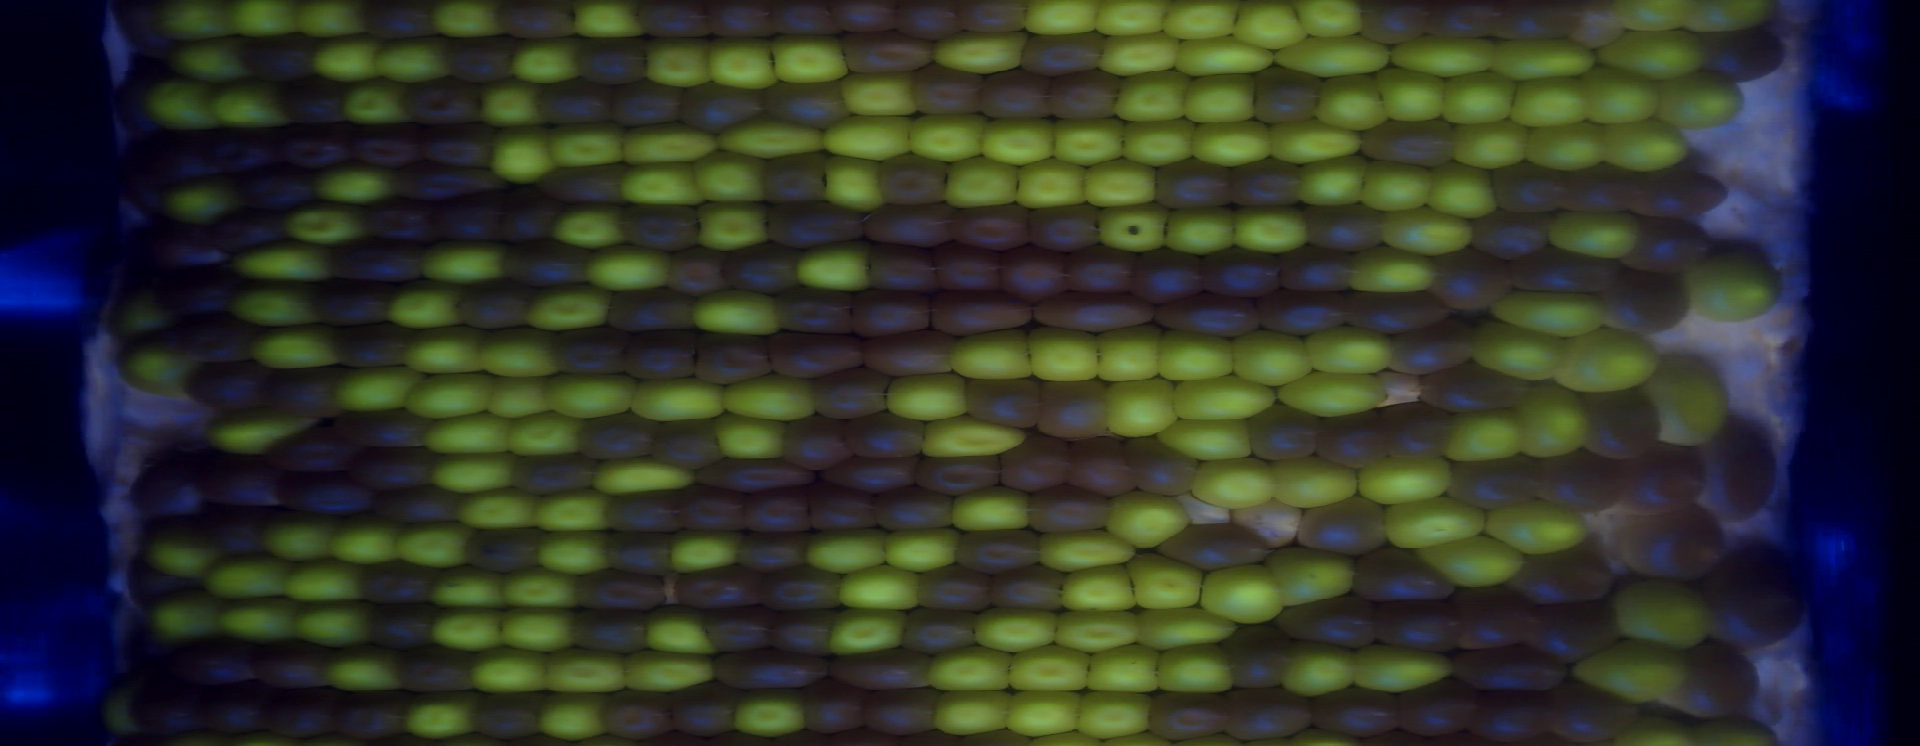fluorescent: (1635, 349, 1734, 452), (1573, 633, 1697, 708), (1549, 323, 1665, 398), (1609, 572, 1719, 650), (1685, 241, 1784, 322), (1464, 314, 1571, 385), (1485, 287, 1615, 344), (111, 327, 208, 404), (1379, 492, 1491, 559), (1589, 24, 1713, 85), (1100, 485, 1201, 557), (1644, 65, 1751, 134), (1478, 495, 1592, 559), (1411, 530, 1531, 590), (1509, 380, 1596, 462), (1258, 540, 1360, 609), (201, 401, 320, 459), (1346, 639, 1461, 699), (1269, 29, 1400, 82), (1273, 364, 1396, 420), (1166, 369, 1283, 426), (132, 516, 233, 583), (711, 114, 838, 167), (1356, 446, 1460, 510), (684, 281, 787, 344), (1593, 111, 1697, 174), (1576, 59, 1669, 129), (1195, 559, 1288, 628), (715, 369, 828, 426), (195, 548, 300, 609), (1120, 544, 1211, 615), (1134, 600, 1245, 658), (219, 232, 338, 285), (1298, 318, 1404, 379), (1018, 320, 1111, 388), (1540, 205, 1644, 266), (917, 412, 1035, 465), (1185, 450, 1284, 513), (1266, 450, 1367, 512), (587, 450, 705, 502), (246, 318, 350, 379), (1224, 327, 1322, 391), (1147, 318, 1242, 385), (942, 323, 1043, 385), (1098, 372, 1185, 443), (156, 170, 252, 234), (251, 505, 345, 570), (578, 236, 680, 296), (468, 322, 567, 383), (613, 116, 726, 170), (1035, 524, 1142, 581), (410, 232, 516, 289), (1389, 31, 1506, 82), (542, 367, 647, 425), (396, 367, 500, 425), (1487, 33, 1603, 85), (380, 274, 475, 337), (969, 599, 1065, 660), (1436, 404, 1533, 465), (800, 521, 900, 579), (880, 367, 978, 428), (624, 372, 733, 426), (138, 71, 227, 137), (926, 26, 1036, 78), (520, 279, 623, 336), (760, 29, 862, 86), (1375, 202, 1477, 258), (1420, 156, 1504, 224), (276, 551, 375, 609), (918, 639, 1015, 698), (541, 641, 638, 699), (1155, 415, 1262, 468), (689, 192, 775, 258), (222, 279, 332, 331), (792, 230, 879, 295), (1276, 635, 1363, 699), (1089, 318, 1172, 386), (687, 145, 773, 209), (322, 510, 408, 575), (816, 111, 921, 164), (157, 36, 260, 89), (1052, 559, 1146, 617), (834, 556, 928, 615), (1370, 59, 1451, 127), (396, 318, 487, 379), (948, 479, 1040, 539), (1107, 65, 1195, 127), (1311, 69, 1395, 135), (939, 151, 1024, 216), (620, 646, 724, 698), (143, 588, 233, 649), (369, 31, 462, 89), (200, 76, 293, 135), (449, 479, 549, 534), (615, 154, 711, 211), (318, 639, 409, 699), (1433, 66, 1520, 129), (1356, 156, 1442, 218), (820, 601, 915, 659), (287, 597, 381, 654), (211, 592, 305, 649), (1344, 243, 1445, 296), (902, 107, 991, 168), (276, 194, 373, 249), (1071, 682, 1160, 744), (102, 278, 176, 350), (1093, 26, 1189, 82), (1000, 639, 1096, 696), (389, 514, 482, 572), (1184, 113, 1277, 170), (638, 29, 719, 96), (309, 156, 408, 209), (415, 405, 514, 459), (331, 361, 427, 416), (1224, 198, 1315, 257), (705, 31, 787, 96), (1047, 606, 1150, 658), (422, 445, 520, 499), (464, 642, 558, 697), (1520, 118, 1608, 176), (972, 113, 1064, 169), (927, 684, 1022, 737), (484, 119, 557, 189), (421, 560, 514, 615), (1261, 119, 1368, 167), (1147, 638, 1236, 696), (1010, 151, 1090, 214), (495, 599, 582, 657), (1078, 152, 1161, 212), (545, 116, 636, 171), (878, 522, 969, 577), (1081, 637, 1161, 699), (817, 152, 890, 219), (1445, 115, 1531, 173), (471, 73, 553, 134), (498, 559, 585, 615), (1119, 113, 1202, 171), (640, 599, 719, 661), (528, 483, 618, 537), (1502, 73, 1593, 127), (1093, 198, 1174, 258), (500, 408, 591, 461), (729, 685, 814, 741), (400, 687, 486, 744), (540, 200, 628, 254), (1179, 69, 1260, 127), (999, 685, 1085, 740), (507, 32, 589, 89), (302, 31, 384, 88), (1161, 202, 1243, 260), (481, 369, 566, 424), (661, 527, 749, 579), (1044, 115, 1130, 169), (534, 687, 612, 746), (531, 527, 615, 582), (425, 601, 508, 657), (1294, 152, 1374, 209), (1228, 1, 1313, 55), (836, 67, 920, 121), (711, 409, 791, 464), (152, 1, 240, 50), (336, 76, 415, 130), (87, 670, 147, 739), (1674, 1, 1780, 39), (219, 1, 309, 44), (426, 1, 511, 45), (568, 1, 651, 45), (1158, 1, 1247, 43), (1014, 1, 1104, 42), (1286, 1, 1369, 44), (285, 1, 373, 42), (1087, 1, 1173, 40), (1608, 1, 1700, 37)
nonfluorescent: (1696, 533, 1813, 652), (1615, 495, 1734, 586), (1700, 413, 1787, 523), (1662, 638, 1773, 722), (1572, 381, 1674, 469), (1344, 541, 1464, 612), (1537, 673, 1651, 746), (1527, 445, 1636, 521), (1611, 439, 1716, 517), (1441, 578, 1545, 657), (1526, 597, 1636, 668), (1445, 639, 1575, 699), (1512, 544, 1625, 612), (1145, 521, 1282, 576), (1275, 590, 1390, 655), (1445, 448, 1551, 518), (1600, 265, 1700, 339), (756, 195, 876, 256), (1369, 590, 1476, 659), (389, 156, 514, 213), (269, 461, 384, 523), (1689, 20, 1795, 87), (1293, 492, 1397, 561), (1024, 370, 1117, 446), (1213, 680, 1326, 742), (1302, 680, 1412, 744), (1424, 246, 1524, 316), (1417, 360, 1536, 419), (760, 323, 872, 386), (1389, 673, 1487, 742), (1031, 285, 1162, 337), (133, 212, 231, 281), (927, 284, 1043, 342), (1618, 212, 1720, 277), (121, 673, 219, 740), (1629, 164, 1738, 224), (825, 641, 940, 697), (857, 326, 965, 386), (691, 451, 825, 499), (1371, 396, 1463, 465), (1462, 681, 1566, 742), (193, 447, 288, 514), (1512, 243, 1627, 298), (1354, 113, 1462, 171), (121, 454, 212, 524), (705, 644, 838, 692), (178, 356, 278, 419), (751, 559, 855, 619), (1216, 619, 1298, 695), (253, 680, 355, 741), (1116, 432, 1206, 501), (1340, 285, 1460, 337), (1381, 317, 1484, 377), (1307, 405, 1401, 470), (167, 628, 264, 691), (1142, 684, 1240, 746), (1254, 283, 1359, 341), (1155, 290, 1269, 343), (1149, 151, 1239, 217), (327, 402, 440, 454), (670, 560, 773, 617), (1247, 59, 1331, 129), (808, 360, 899, 425), (763, 76, 861, 136), (195, 673, 280, 741), (245, 637, 347, 695), (838, 405, 929, 469), (864, 480, 964, 539), (1240, 399, 1329, 465), (672, 78, 769, 138), (993, 239, 1078, 307), (861, 196, 961, 254), (1123, 245, 1215, 307), (718, 236, 809, 299), (504, 445, 605, 501), (156, 258, 242, 323), (1060, 430, 1141, 500), (1487, 157, 1575, 220), (599, 284, 700, 339), (944, 198, 1037, 258), (389, 639, 482, 699), (591, 681, 684, 741), (687, 328, 776, 391), (326, 684, 415, 746), (996, 432, 1075, 502), (776, 407, 856, 477), (1016, 22, 1111, 81), (1044, 62, 1125, 131), (1297, 198, 1391, 257), (119, 549, 206, 612), (500, 236, 600, 292), (107, 134, 174, 216), (165, 310, 263, 366), (1464, 205, 1562, 261), (1199, 243, 1291, 303), (645, 412, 729, 478), (795, 673, 878, 739), (950, 522, 1046, 579), (1554, 159, 1649, 217), (928, 236, 1013, 301), (616, 323, 700, 388), (233, 29, 323, 89), (367, 477, 468, 530), (962, 372, 1051, 434), (1018, 481, 1116, 537), (326, 318, 415, 379), (911, 559, 1000, 619), (305, 276, 404, 330), (256, 363, 343, 424), (596, 483, 691, 539), (910, 59, 993, 122), (1223, 154, 1315, 212), (258, 425, 356, 479), (664, 676, 748, 739), (560, 605, 655, 660), (190, 500, 276, 561), (460, 523, 553, 579), (598, 523, 684, 583), (1021, 198, 1112, 256), (845, 284, 936, 342), (768, 284, 862, 339), (816, 451, 927, 497), (449, 274, 538, 333), (981, 561, 1070, 619), (229, 160, 320, 217), (616, 200, 707, 256), (858, 684, 949, 740), (527, 160, 631, 209), (1059, 241, 1142, 303), (913, 450, 1008, 503), (607, 76, 696, 134), (204, 121, 293, 179), (576, 408, 664, 465), (726, 522, 814, 579), (425, 187, 509, 247), (317, 236, 429, 282), (835, 28, 936, 78), (975, 67, 1060, 126), (861, 238, 947, 296), (696, 598, 778, 659), (898, 603, 984, 660), (671, 477, 754, 537), (572, 563, 673, 612), (359, 190, 443, 249), (105, 60, 167, 141), (736, 481, 822, 539), (571, 33, 654, 92), (349, 439, 440, 492), (802, 479, 887, 537), (549, 322, 629, 382), (762, 600, 842, 660), (1273, 243, 1365, 295), (530, 72, 616, 129), (356, 554, 438, 612), (140, 125, 219, 185), (1484, 1, 1589, 47), (491, 181, 567, 244), (116, 616, 185, 685), (441, 31, 520, 89), (876, 149, 953, 209), (418, 120, 504, 173), (398, 75, 482, 129), (360, 599, 442, 654), (202, 203, 291, 254), (468, 688, 553, 740), (276, 122, 361, 173), (760, 149, 831, 209), (111, 1, 180, 62), (1356, 1, 1441, 50), (276, 73, 351, 129), (485, 1, 582, 44), (347, 121, 431, 170), (662, 243, 732, 300), (634, 1, 720, 43), (889, 1, 966, 47), (355, 1, 438, 43), (765, 1, 849, 43), (700, 1, 779, 44), (1424, 1, 1502, 43), (819, 1, 905, 39), (950, 1, 1036, 33)
